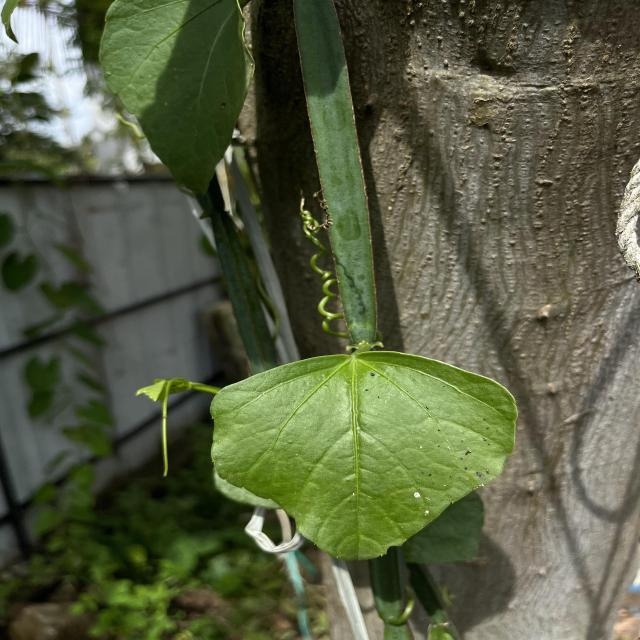Cissus quadrangularis: (205, 348, 520, 564)
